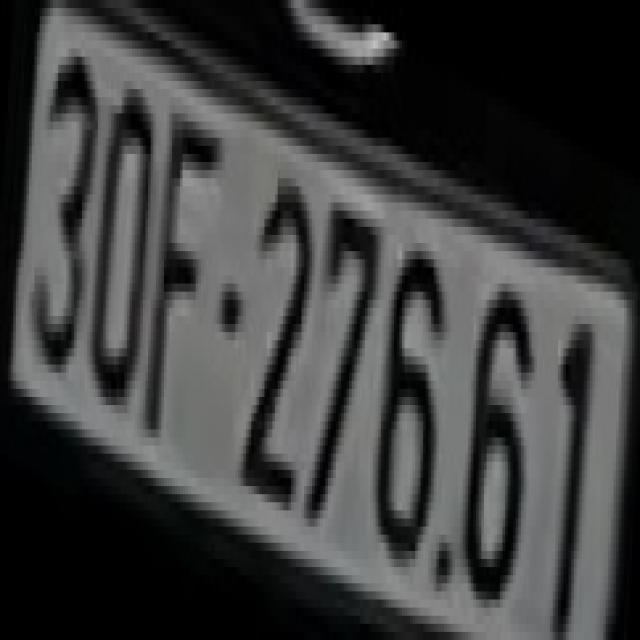0: (90, 81, 151, 413)
1: (547, 308, 595, 640)
2: (240, 178, 310, 511)
3: (32, 49, 95, 372)
6: (466, 276, 532, 608), (378, 243, 439, 559)
7: (306, 210, 376, 526)
F: (148, 105, 217, 446)
